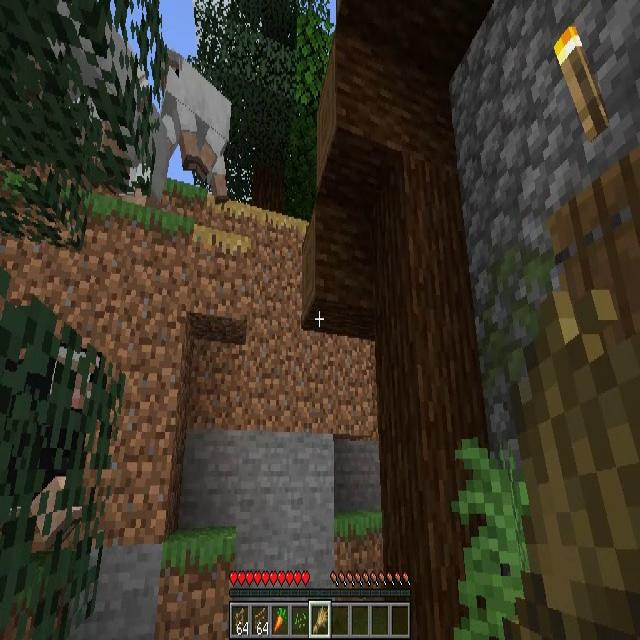sheep: (150, 44, 233, 202)
